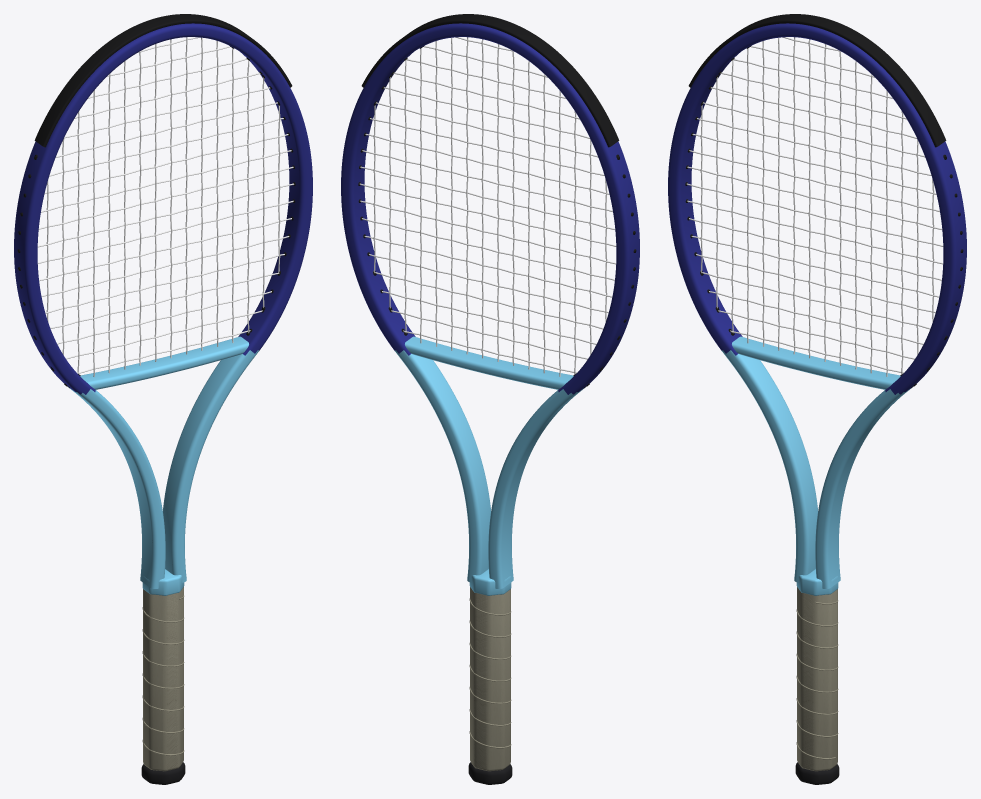
The model's file is wilson-ultra-100-v5.glb.
3 views of the same model, side by side, from view 1: azimuth 30°, elevation 25°; view 2: azimuth 150°, elevation 25°; view 3: azimuth 330°, elevation 25° (orthographic).
Visible parts, largest first — view 1: Frame, Strings, Handle, Bumper, Yoke, GripSeam, ButtCap, Collar; view 2: Frame, Strings, Handle, Bumper, Yoke, GripSeam, ButtCap, Collar; view 3: Frame, Strings, Handle, Bumper, Yoke, GripSeam, ButtCap, Collar.
Boxes of the visible parts, x1,y1,x2,y2 form: Frame: (14,23,312,588); Strings: (37,37,294,376); Handle: (143,587,183,771); Bumper: (34,14,292,147); Yoke: (80,336,248,389); GripSeam: (142,595,184,755); ButtCap: (141,762,185,784); Collar: (142,569,184,595); Frame: (341,23,639,588); Strings: (359,37,616,376); Handle: (470,587,510,771); Bumper: (361,14,619,147); Yoke: (405,336,573,389); GripSeam: (469,598,511,748); ButtCap: (468,762,512,784); Collar: (469,569,511,595); Frame: (668,23,966,588); Strings: (686,37,943,376); Handle: (797,587,837,771); Bumper: (688,14,946,147); Yoke: (732,336,900,389); GripSeam: (796,600,838,759); ButtCap: (795,762,839,784); Collar: (796,569,838,595).
Size of the model in its own units: 0.2758 by 0.6886 by 0.0327.
6 materials, 1 textured.
